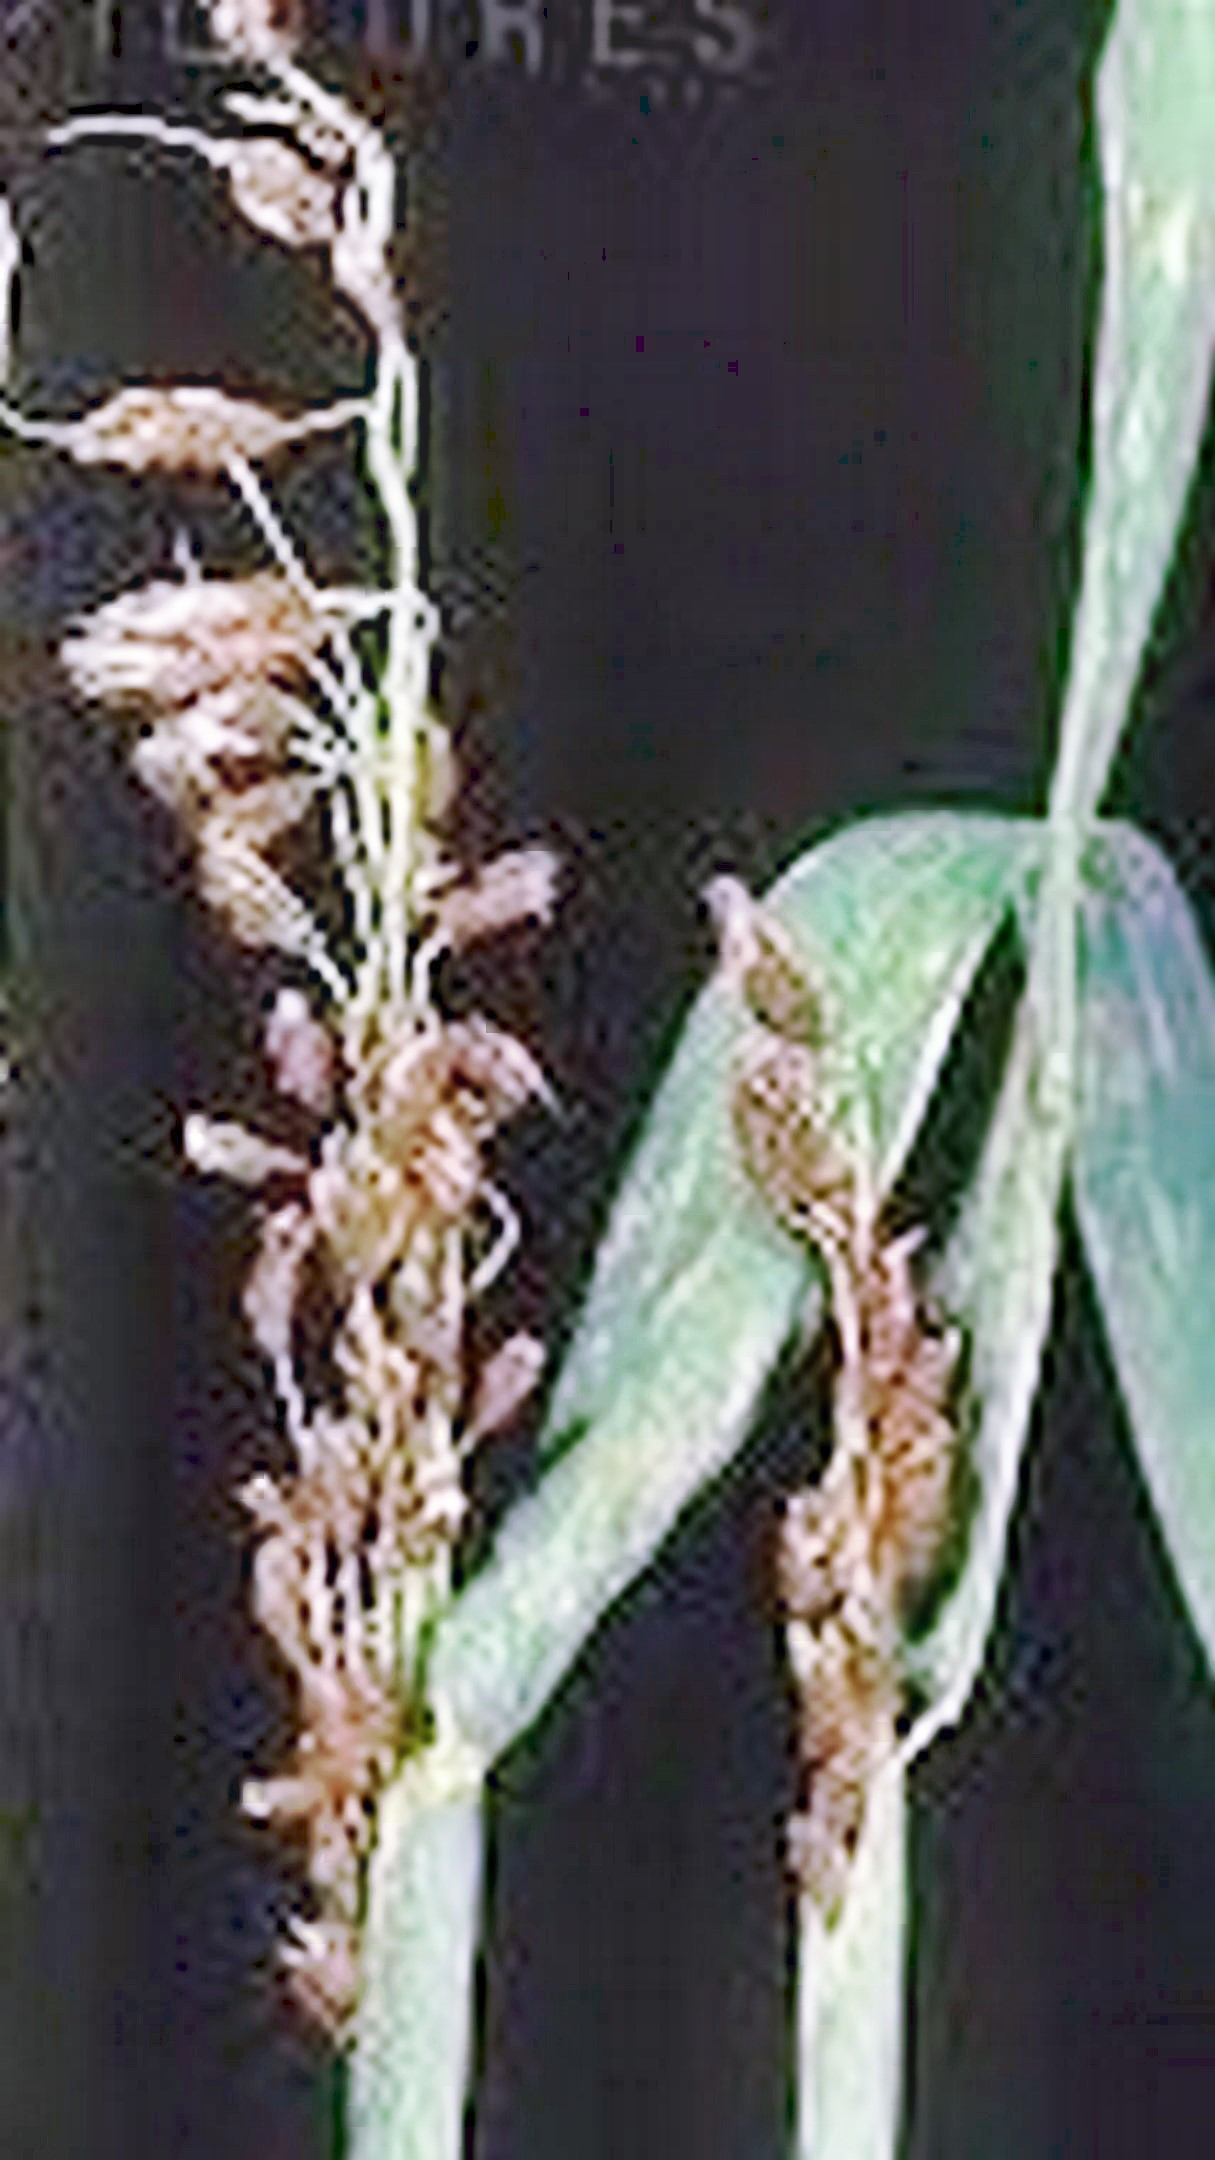Wheat Loose Smut: (90, 331, 601, 1859)
